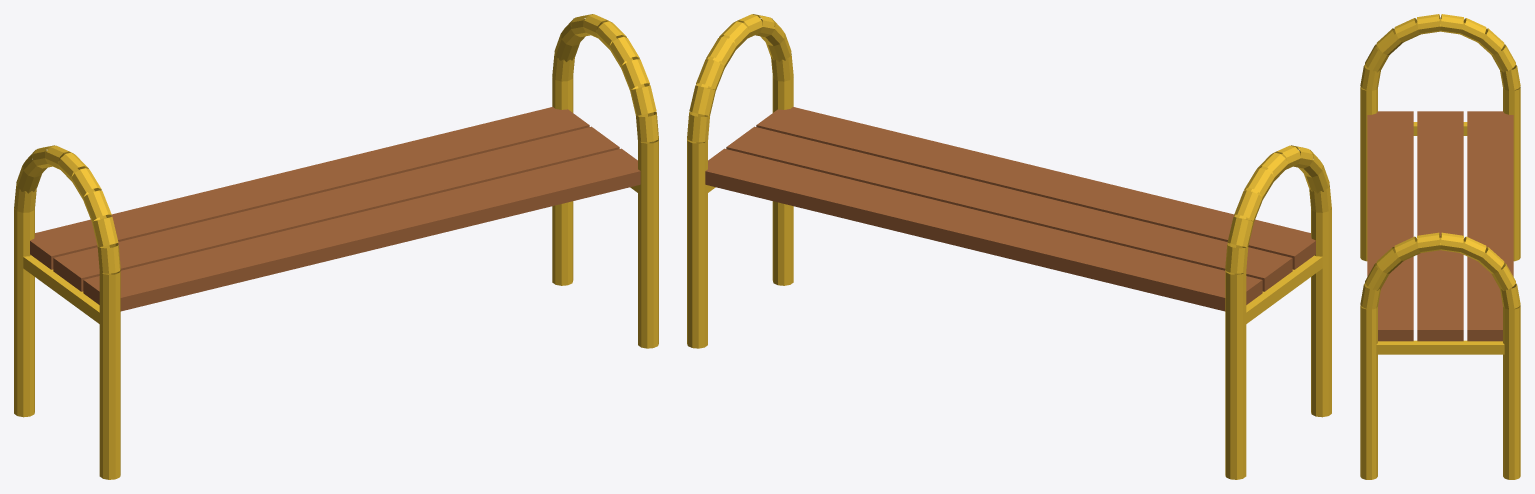
3 views of the same model, side by side, from view 1: azimuth 30°, elevation 25°; view 2: azimuth 150°, elevation 25°; view 3: azimuth 270°, elevation 25° (orthographic). The views are drawn at different scales.
Visible parts, largest first — view 1: SW-L509; view 2: SW-L509; view 3: SW-L509.
Boxes of the visible parts, x1=… form: SW-L509: x1=14, y1=14, x2=658, y2=479; SW-L509: x1=687, y1=14, x2=1331, y2=479; SW-L509: x1=1360, y1=14, x2=1520, y2=479.
Size of the model in its own units: 1.5 by 0.75 by 0.45.
